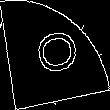O_W: (29, 30, 81, 80)
